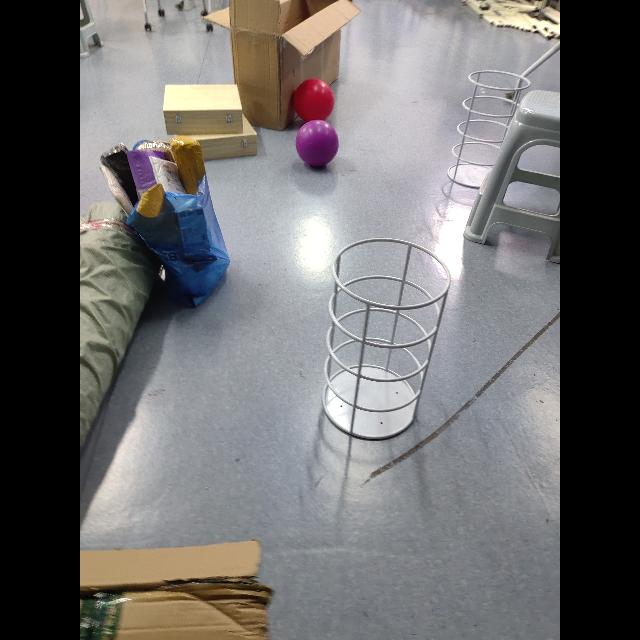S: (321, 237, 454, 443)
